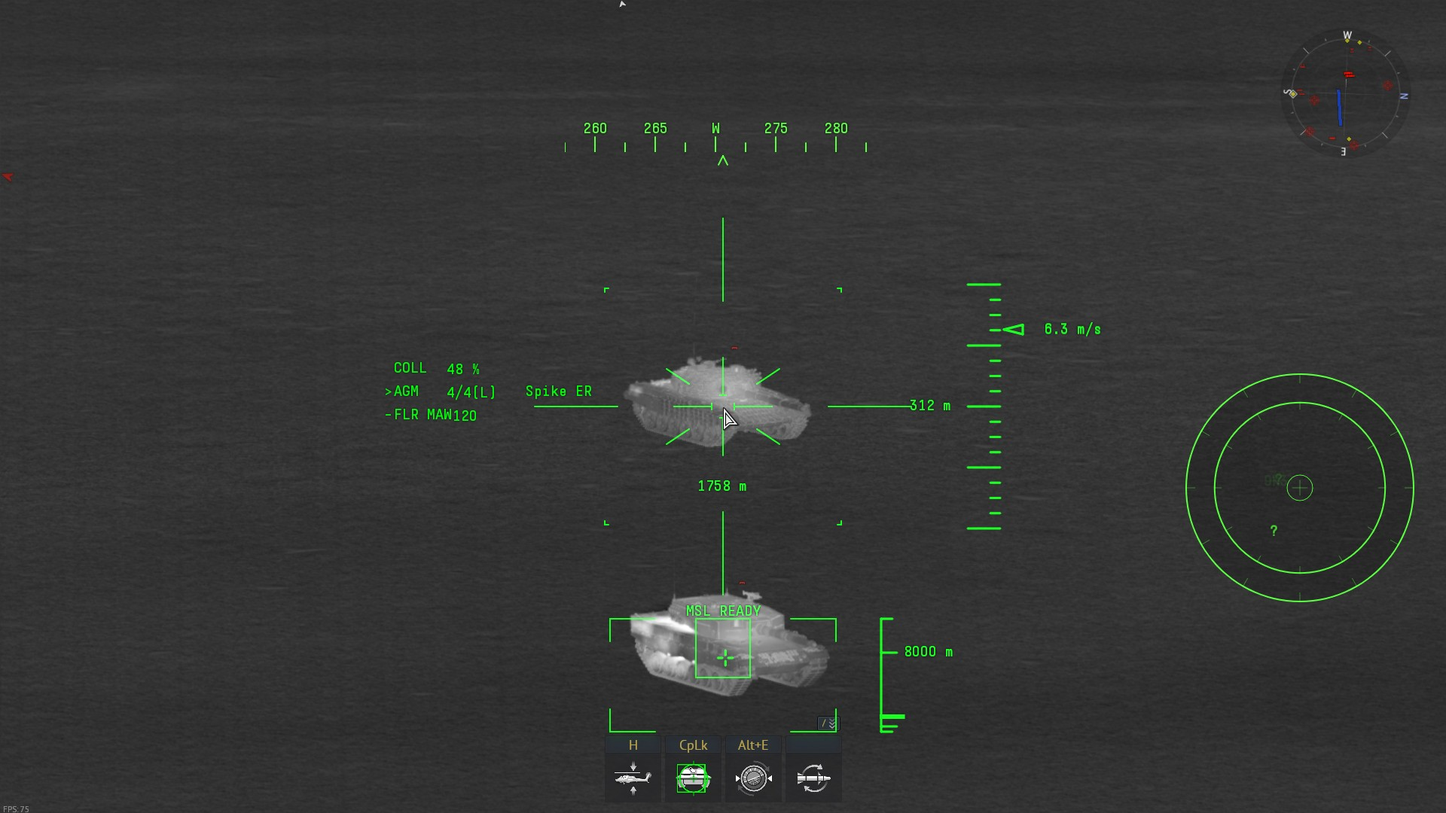leopard2: (629, 591, 830, 698)
t72b: (624, 357, 812, 447)
